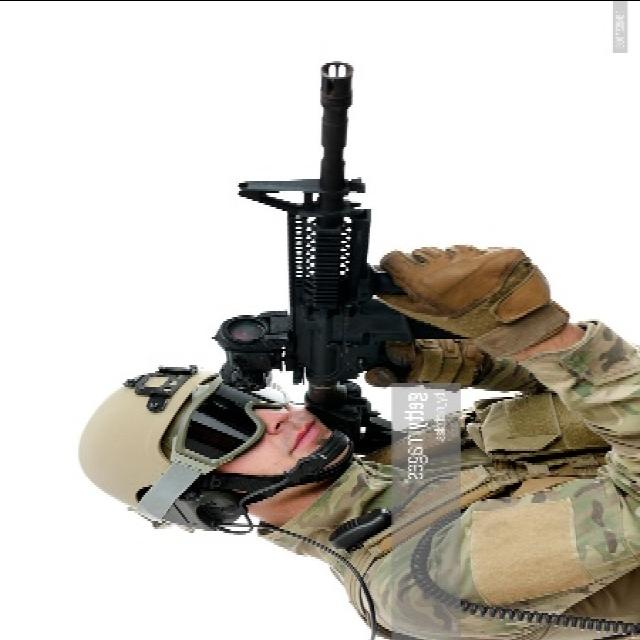rifle: (209, 45, 453, 427)
